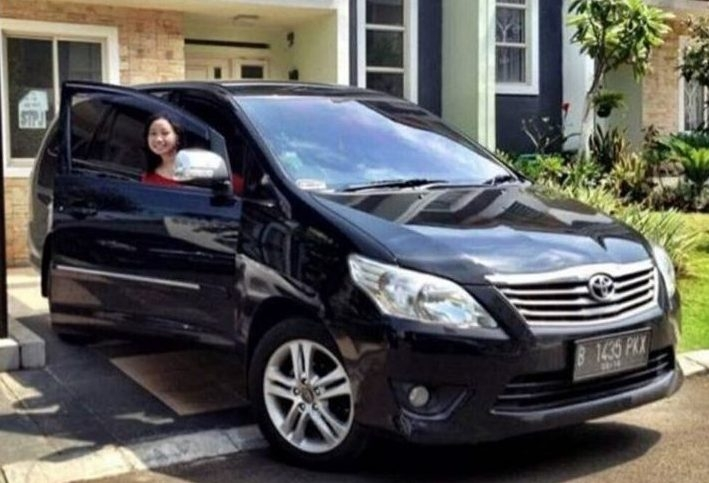plate: (575, 334, 651, 375)
